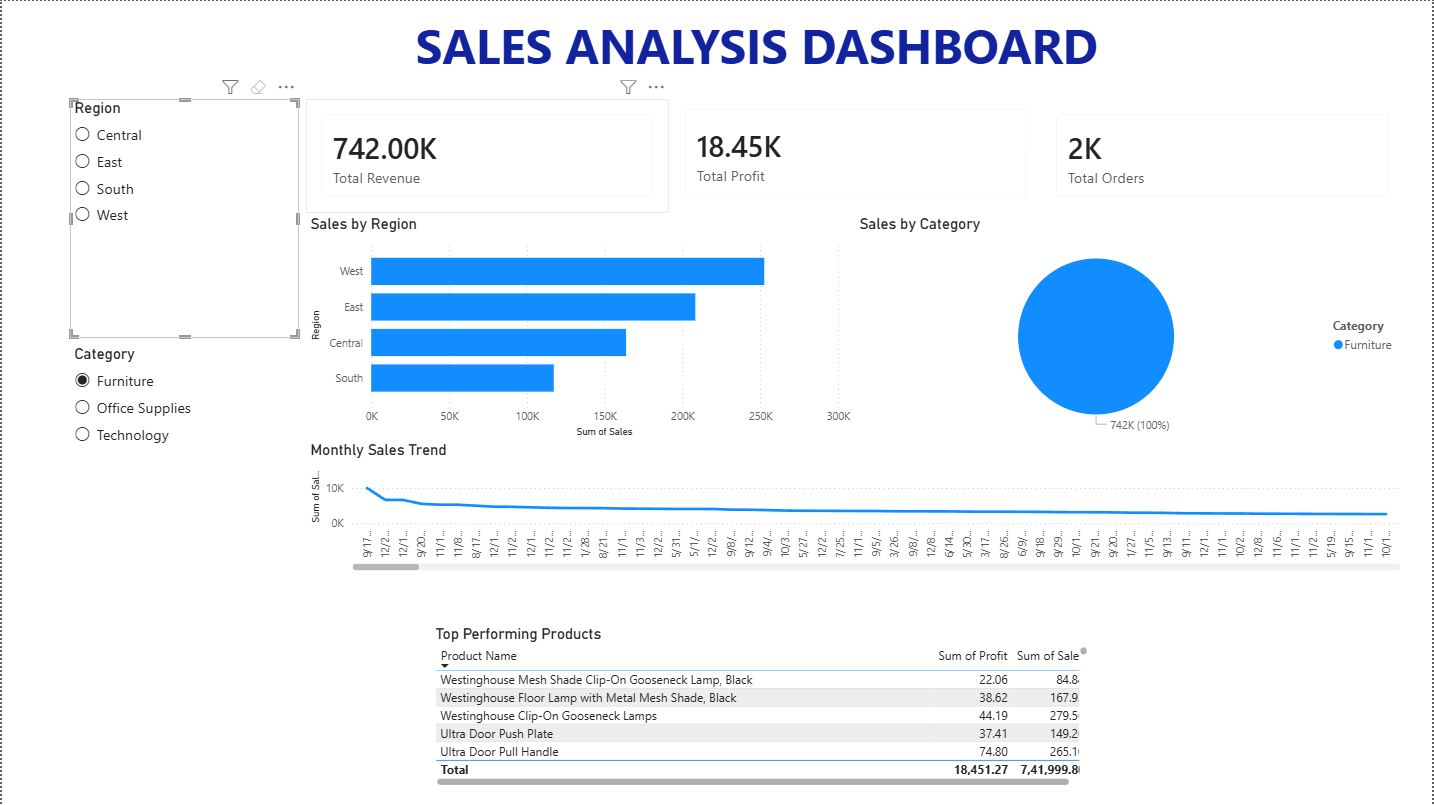

This screenshot's page, from the dashboard's own definition file:
{"tool":"powerbi","page":{"name":"Page 1","canvas":[1600,900],"ordinal":0},"visuals":[{"type":"cardVisual","fields":{"Data":["sales_data csv.Total Revenue"]},"box":[340.3,109.7,406.3,127.6],"z":0},{"type":"cardVisual","fields":{"Data":["sales_data csv.Total Profit"]},"box":[747.8,104.1,416.4,133.2],"z":1},{"type":"cardVisual","fields":{"Data":["sales_data csv.Total Orders"]},"box":[1163.1,109.7,407.5,127.6],"z":2},{"type":"barChart","title":"Sales by Region","fields":{"Category":["sales_data csv.Region"],"Y":["Sum(sales_data csv.Sales)"]},"box":[340.3,239.6,614.6,253],"z":3},{"type":"pieChart","title":"Sales by Category","fields":{"Category":["sales_data csv.Category"],"Y":["Sum(sales_data csv.Sales)"]},"box":[954.9,239.6,615.7,253],"z":4},{"type":"lineChart","title":"Monthly Sales Trend","fields":{"Category":["sales_data csv.Order Date"],"Y":["Sum(sales_data csv.Sales)"]},"box":[340.3,492.5,1230.2,150],"z":5},{"type":"tableEx","title":"Top Performing Products","fields":{"Values":["sales_data csv.Product Name","Sum(sales_data csv.Profit)","Sum(sales_data csv.Sales)"]},"box":[480.2,698.5,739.9,184.7],"z":6},{"type":"listSlicer","fields":{"Values":["sales_data csv.Region"]},"box":[76.1,109.7,256.3,267.5],"z":7},{"type":"listSlicer","fields":{"Values":["sales_data csv.Category"]},"box":[76.1,385.1,256.3,257.5],"z":8},{"type":"textbox","box":[457.8,7.8,804.9,80.6],"z":9}]}

Visuals, with their boxes in screenshot pixels (x1, y1, x2, y2), scaled from the page's 1600x900 canvas onto the 1434x805 screenshot:
cardVisual - sales_data csv.Total Revenue: [left=305, top=98, right=669, bottom=212]
cardVisual - sales_data csv.Total Profit: [left=670, top=93, right=1043, bottom=212]
cardVisual - sales_data csv.Total Orders: [left=1042, top=98, right=1408, bottom=212]
"Sales by Region" barChart: [left=305, top=214, right=856, bottom=441]
"Sales by Category" pieChart: [left=856, top=214, right=1408, bottom=441]
"Monthly Sales Trend" lineChart: [left=305, top=441, right=1408, bottom=575]
"Top Performing Products" tableEx: [left=430, top=625, right=1094, bottom=790]
listSlicer - sales_data csv.Region: [left=68, top=98, right=298, bottom=337]
listSlicer - sales_data csv.Category: [left=68, top=344, right=298, bottom=575]
textbox: [left=410, top=7, right=1132, bottom=79]
